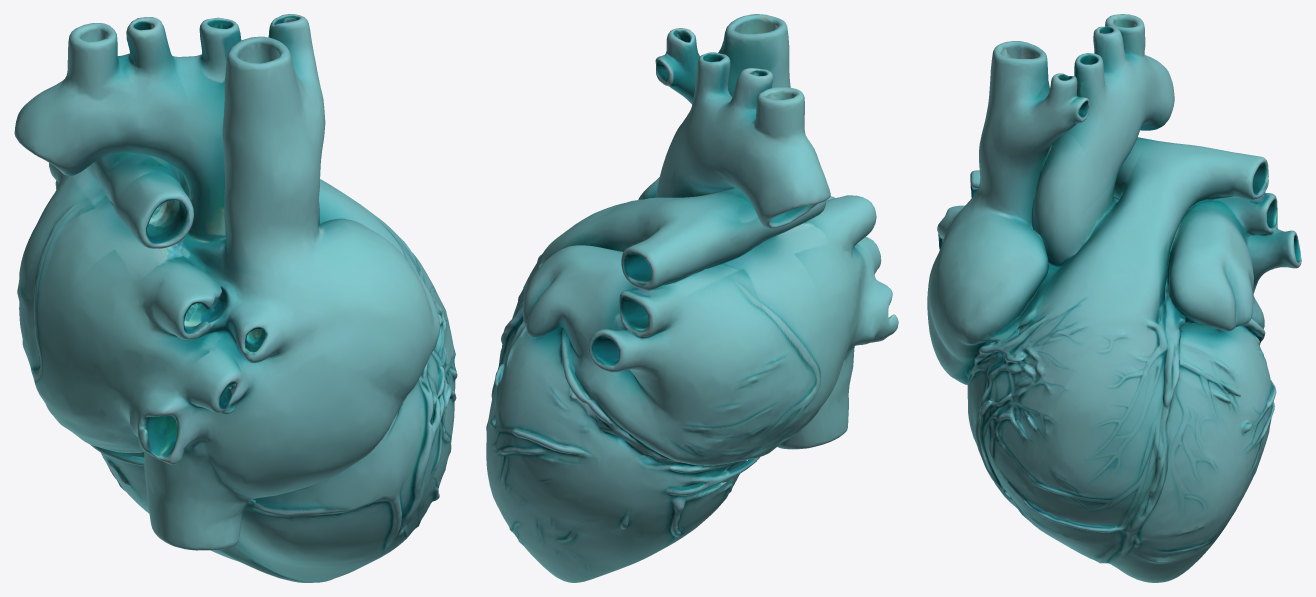
3 views of the same model, side by side, from view 1: azimuth 30°, elevation 25°; view 2: azimuth 150°, elevation 25°; view 3: azimuth 270°, elevation 25° (orthographic). The views are drawn at different scales.
Visible parts, largest first — view 1: tripo_node_94bd0454-736e-4e21-a90b-374d4b533ce2; view 2: tripo_node_94bd0454-736e-4e21-a90b-374d4b533ce2; view 3: tripo_node_94bd0454-736e-4e21-a90b-374d4b533ce2.
Boxes of the visible parts, x1,y1,x2,y2 form: tripo_node_94bd0454-736e-4e21-a90b-374d4b533ce2: [14, 14, 457, 582]; tripo_node_94bd0454-736e-4e21-a90b-374d4b533ce2: [486, 14, 898, 582]; tripo_node_94bd0454-736e-4e21-a90b-374d4b533ce2: [927, 14, 1301, 582].
Bounding box in the file's own units: 0.6188 × 0.9477 × 0.6693.
Materials: 1 (1 with a texture image).
